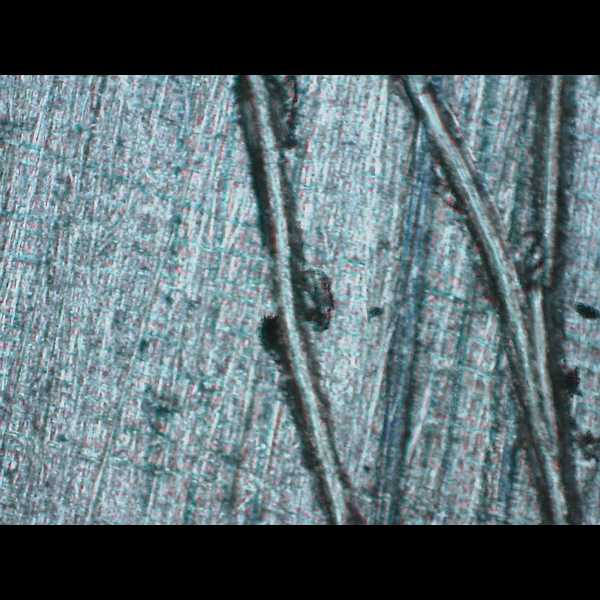d: (394, 75, 580, 525), (224, 76, 364, 525)
